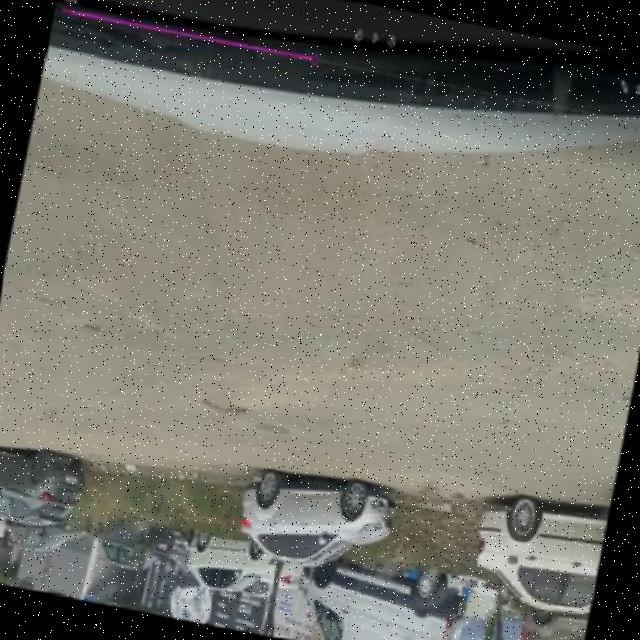Pothole: (202, 399, 247, 415)
